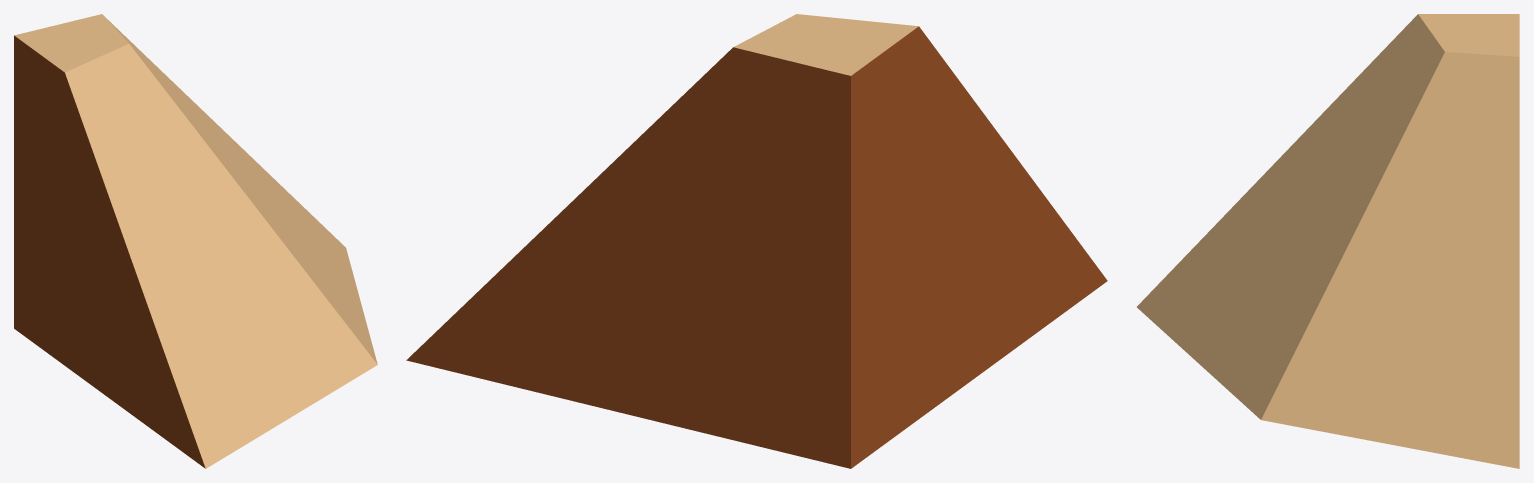
Rendered from cornerExt_border_sand.fbx.
3 renders of one model, left to right at view 1: azimuth 30°, elevation 25°; view 2: azimuth 150°, elevation 25°; view 3: azimuth 270°, elevation 25°, orthographic. The views are drawn at different scales.
Parts seen in each view (by area): view 1: cornerExt_border_sand; view 2: cornerExt_border_sand; view 3: cornerExt_border_sand.
Part boxes in pixels (x1,y1,x2,y2): cornerExt_border_sand: (14, 14, 377, 468); cornerExt_border_sand: (406, 14, 1107, 468); cornerExt_border_sand: (1137, 14, 1519, 468).
Size of the model in its own units: 59.23 by 50 by 59.23.
